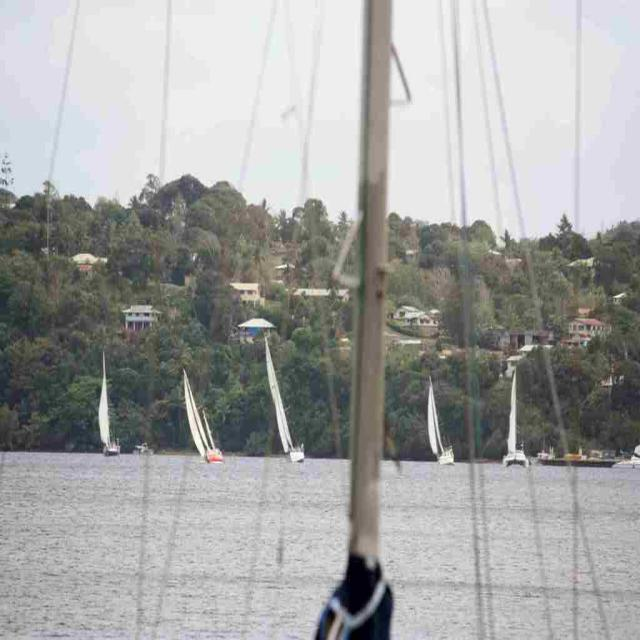Boat: (264, 331, 306, 463), (175, 382, 220, 478), (502, 368, 532, 463), (427, 374, 456, 468), (96, 350, 120, 456), (538, 450, 624, 472)
